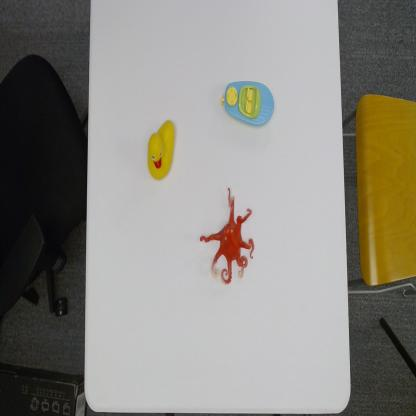Boat: (219, 77, 276, 129)
Duck: (145, 119, 178, 183)
Octopus: (199, 187, 256, 285)
